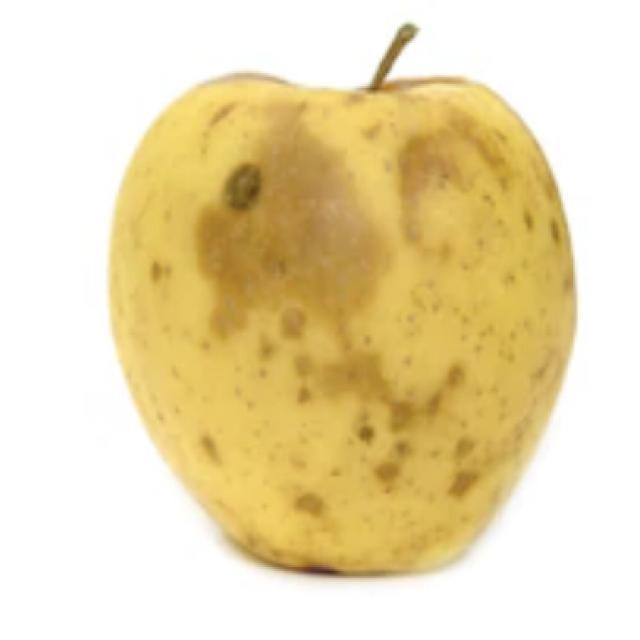Rotten: (114, 66, 568, 606)
